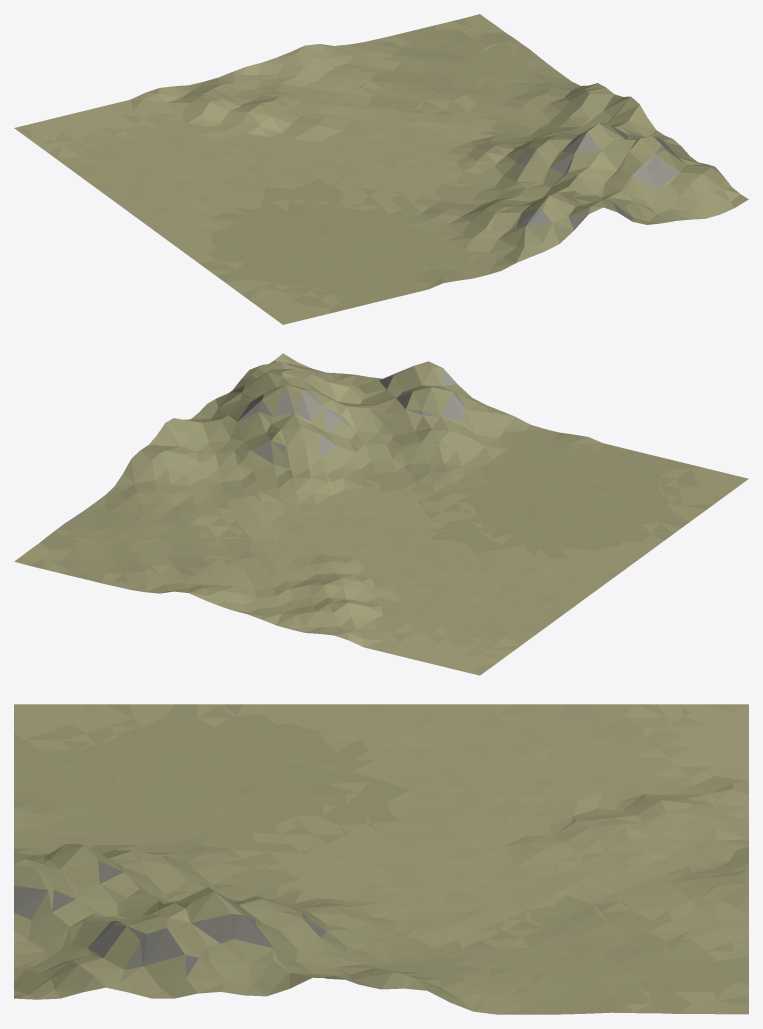
The model's file is Ground_3_-3.glb.
The picture shows the model from 3 angles, top to bottom: view 1: azimuth 30°, elevation 25°; view 2: azimuth 150°, elevation 25°; view 3: azimuth 270°, elevation 25°; orthographic projection. The views are drawn at different scales.
Parts seen in each view (by area): view 1: Ground_3_-3; view 2: Ground_3_-3; view 3: Ground_3_-3.
Boxes of the visible parts, x1,y1,x2,y2 form: Ground_3_-3: (14,14,748,324); Ground_3_-3: (14,353,748,675); Ground_3_-3: (14,704,748,1014).
Bounding box in the file's own units: 768 × 83.24 × 768.
